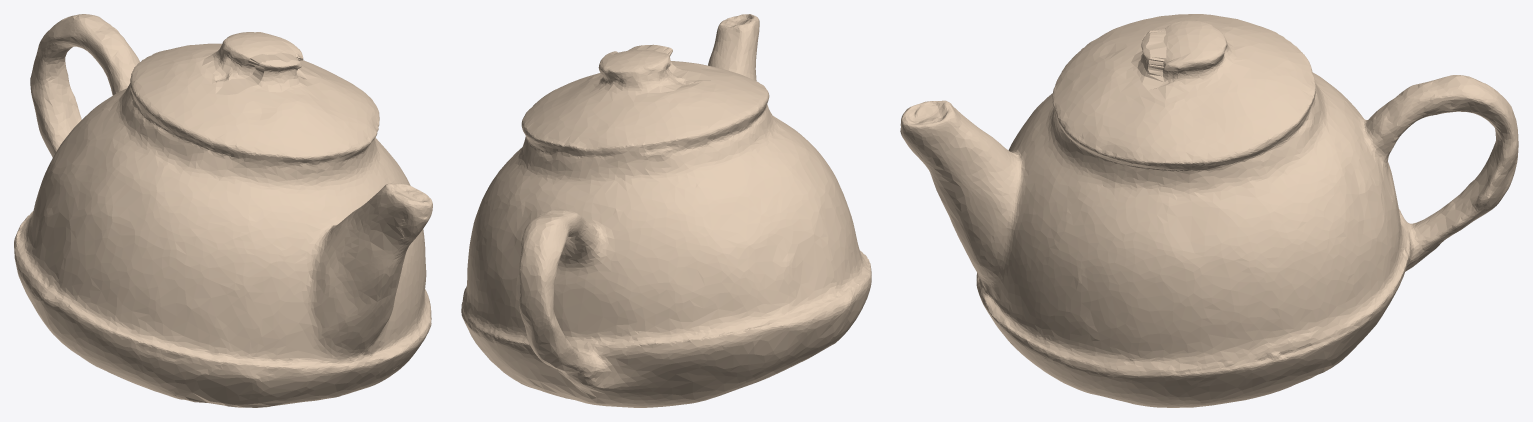
Rendered from teapot.glb.
3 renders of one model, left to right at view 1: azimuth 30°, elevation 25°; view 2: azimuth 150°, elevation 25°; view 3: azimuth 270°, elevation 25°, orthographic. The views are drawn at different scales.
Visible parts, largest first — view 1: teapot; view 2: teapot; view 3: teapot.
Boxes of the visible parts, x1=… form: teapot: x1=14, y1=14, x2=432, y2=407; teapot: x1=461, y1=14, x2=871, y2=407; teapot: x1=900, y1=14, x2=1518, y2=407.
Bounding box in the file's own units: 19.95 × 16.69 × 28.58.
